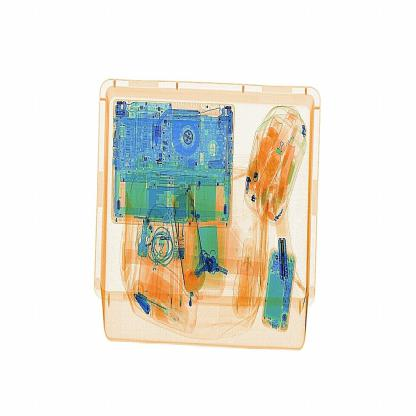scissors: (275, 234, 289, 280)
